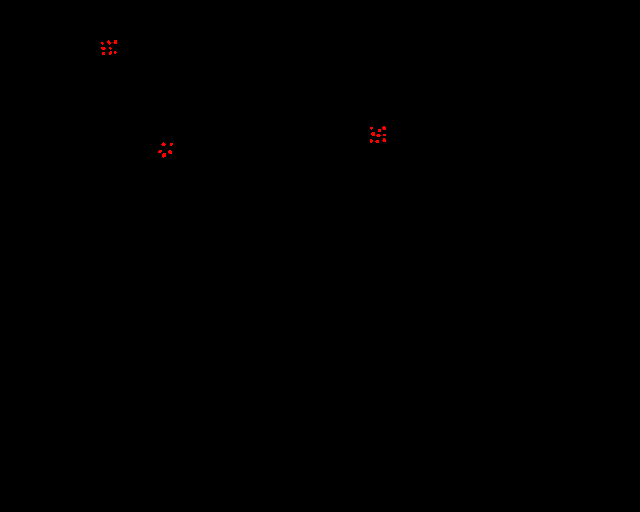Target: (107, 40, 111, 45), (161, 142, 166, 146), (162, 153, 166, 158), (113, 40, 117, 44), (382, 126, 386, 130), (371, 132, 375, 136), (382, 138, 386, 142), (168, 150, 172, 154), (101, 47, 106, 50), (376, 134, 381, 137), (109, 51, 112, 55), (370, 139, 373, 143), (375, 140, 379, 143), (158, 150, 162, 153), (101, 42, 104, 45), (109, 47, 112, 50), (114, 51, 117, 54), (102, 52, 105, 55), (370, 127, 373, 130), (378, 129, 381, 132), (170, 143, 173, 146), (383, 134, 386, 136)
